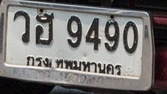txt32: (12, 9, 32, 44)
txt39: (34, 11, 56, 46)
